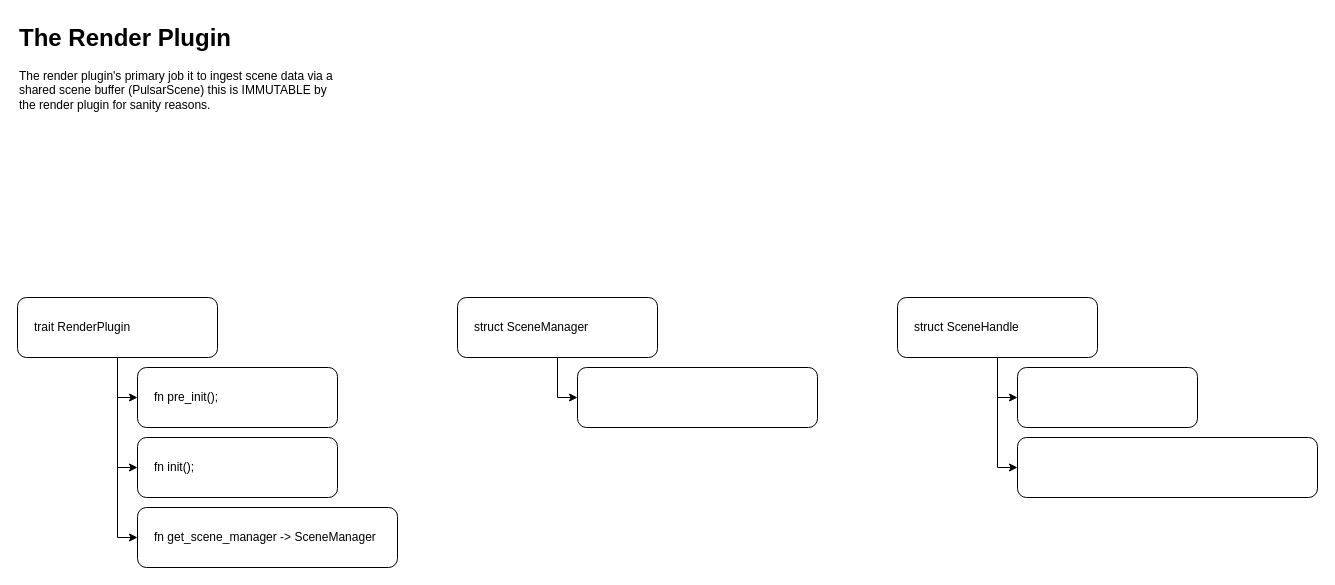
The diagram is 1335 pixels wide and 585 high, and some of its shapes have lost their labels. Each missing label, with the box of its shape:
fn get_scenes() -> Vec<SceneHandle>: (576, 366, 818, 428)
fn get_view_buffers() -> (shared_buf, shared_buf): (1016, 436, 1318, 498)
fn list_views() -> Vec<u64>: (1016, 366, 1198, 428)
